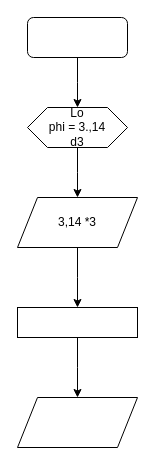
Image size: 155x465. Some labels were removed from this diagram. Each missing label, with the centre of its shape:
end: point 77,422
muali: point 77,37
